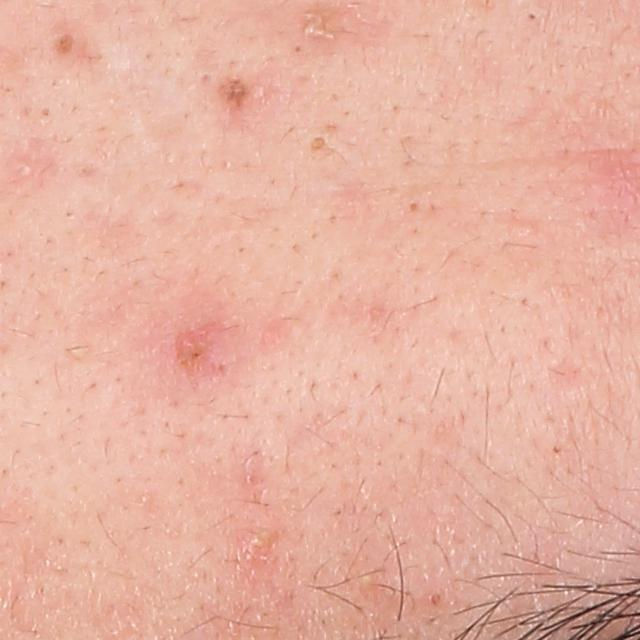comedo: (54, 31, 78, 60), (302, 133, 330, 156), (426, 587, 447, 607), (19, 161, 38, 174), (406, 199, 420, 215), (291, 40, 304, 56), (526, 12, 540, 25)
papule: (162, 317, 240, 381)
